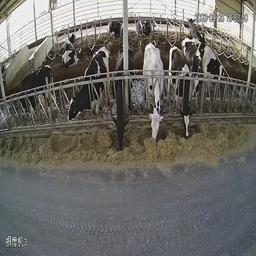cow: (67, 43, 111, 123), (15, 64, 54, 126), (114, 43, 134, 152), (166, 44, 192, 127), (144, 41, 163, 146), (199, 33, 221, 84), (192, 41, 202, 106), (62, 31, 79, 67), (110, 17, 123, 43), (136, 16, 152, 36)
